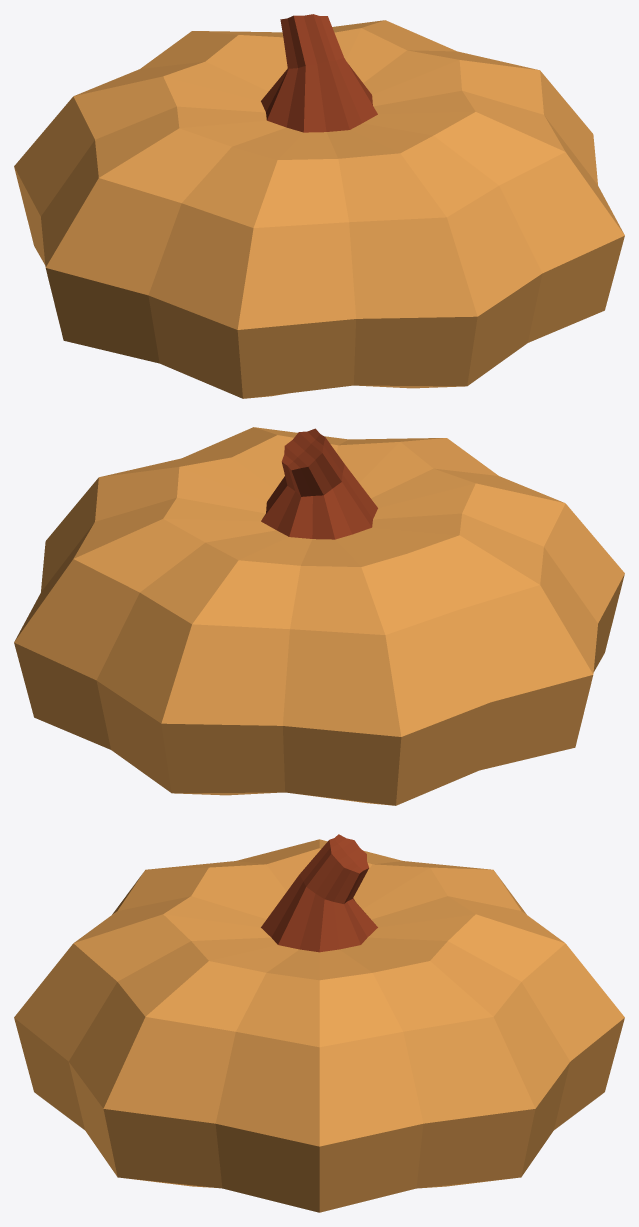
Rendered from pumpkin.fbx.
3 views of the same model, one above another, from view 1: azimuth 30°, elevation 25°; view 2: azimuth 150°, elevation 25°; view 3: azimuth 270°, elevation 25° (orthographic). The views are drawn at different scales.
Parts seen in each view (by area): view 1: _pumpkin; view 2: _pumpkin; view 3: _pumpkin.
Part boxes in pixels (left/top/right/bottom): _pumpkin: left=14, top=14, right=624, bottom=398; _pumpkin: left=14, top=427, right=624, bottom=805; _pumpkin: left=14, top=834, right=624, bottom=1212.
Bounding box in the file's own units: 185 × 97.7 × 185.
